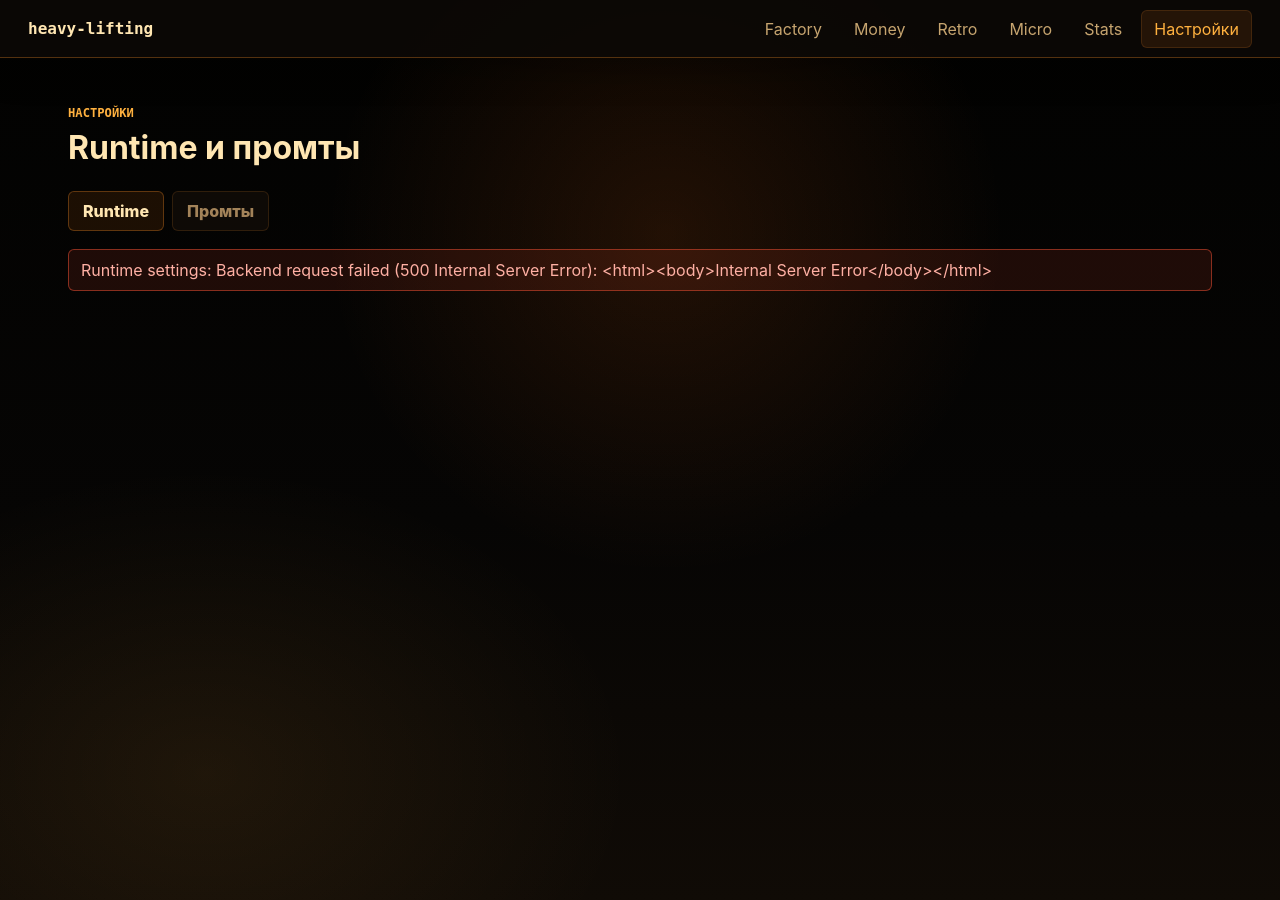
Test: App › keeps prompt editor usable when runtime settings return an HTML error
Expected: the message shows "Runtime settings: Backend request failed (500 Internal Server Error)", [81,260,992,280]
Click the tab "Промты" at point(221, 211), box [172,191,269,231]
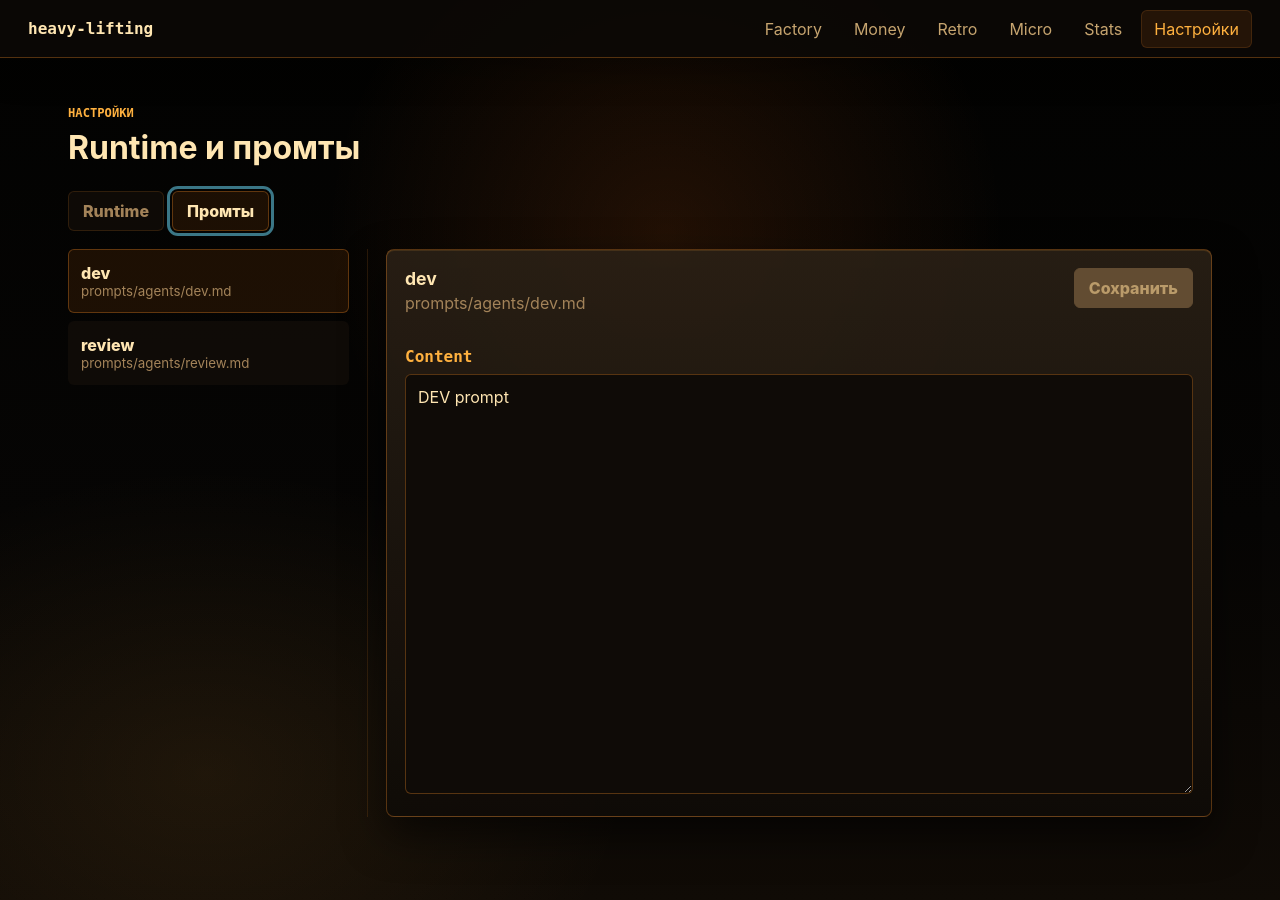
Now the text box labelled "Content" holds "DEV prompt", box [405,374,1193,794]
Now the button "review prompts/agents/review.md" is shown, box [68,321,349,385]
